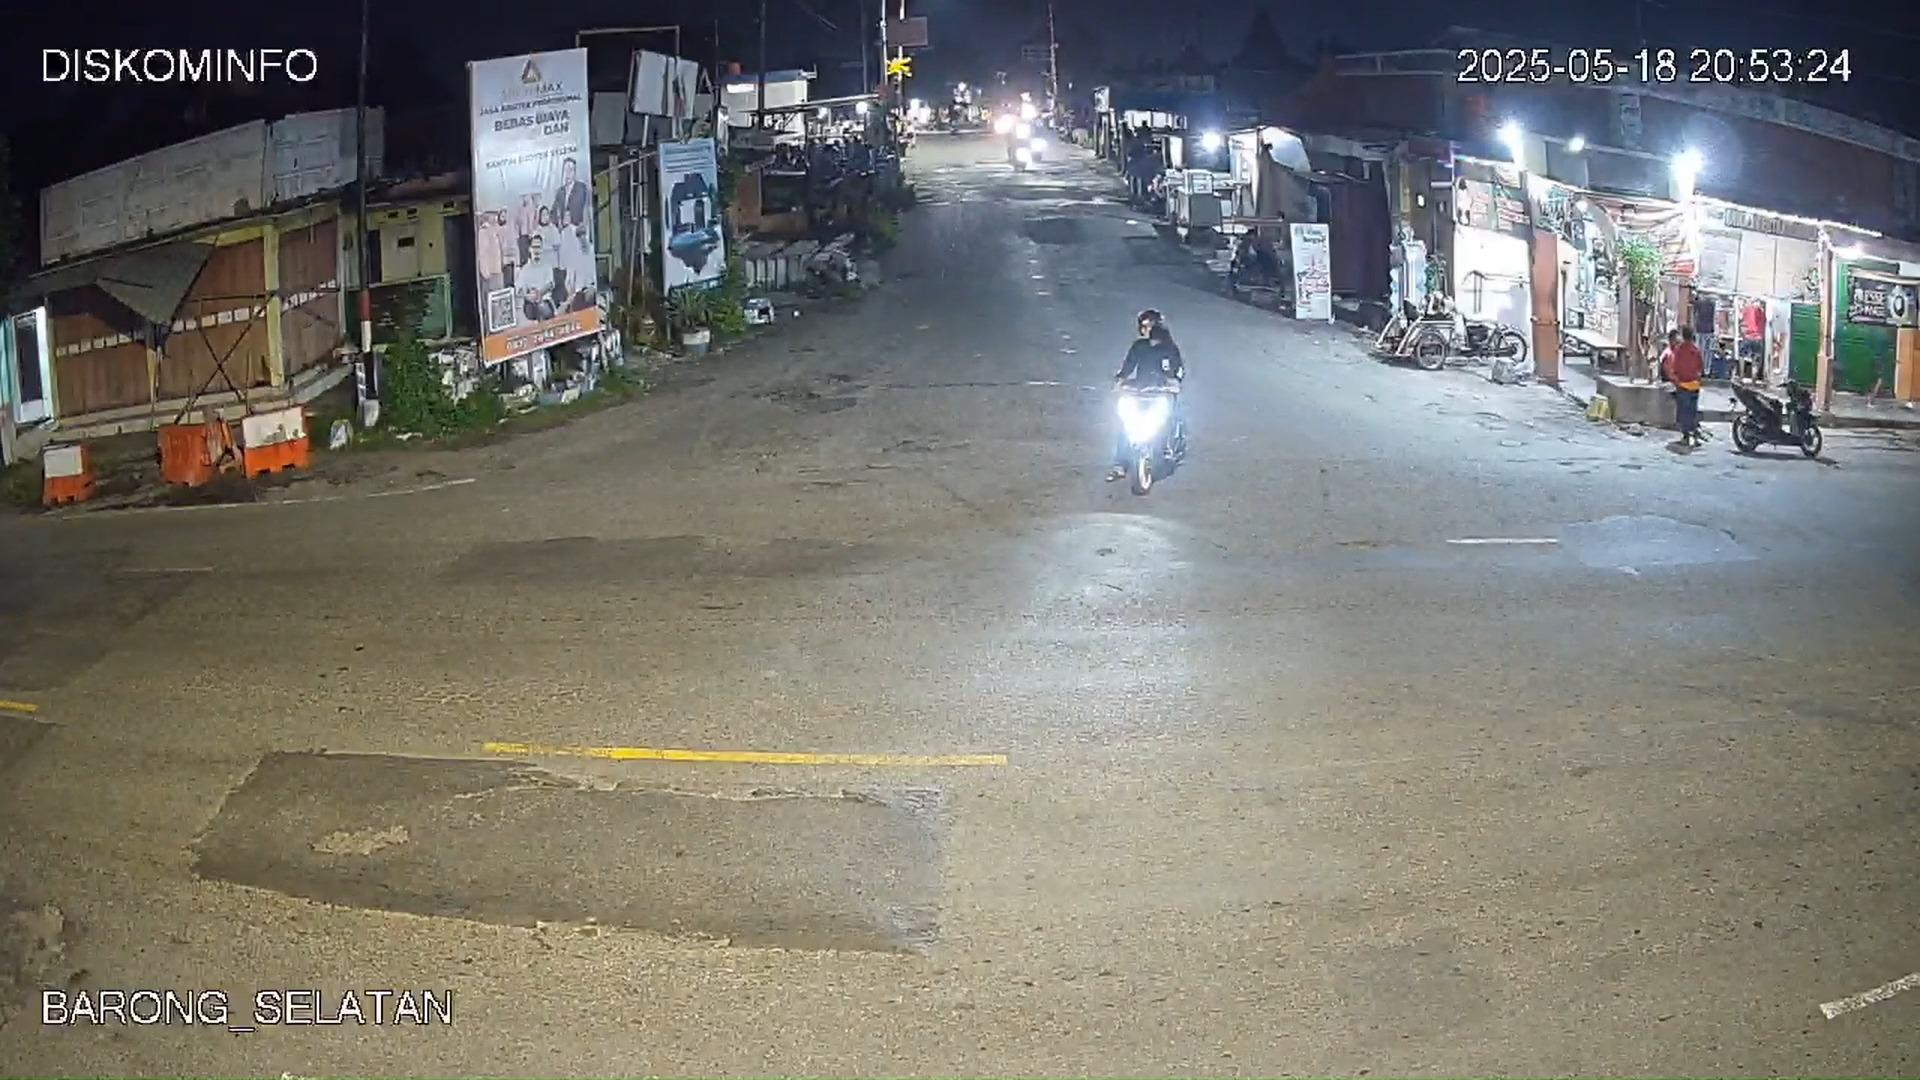Motor: (1101, 305, 1188, 497), (1733, 372, 1825, 458)
mobil: (944, 104, 993, 135)
